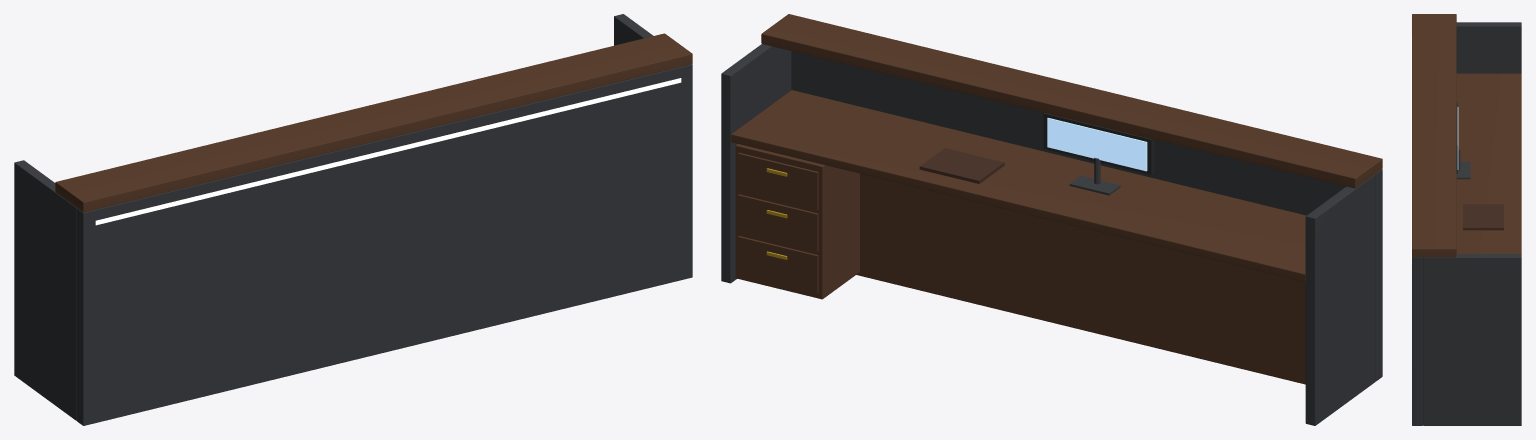
File: prop_reception_desk_exec.glb
3 views of the same model, side by side, from view 1: azimuth 30°, elevation 25°; view 2: azimuth 150°, elevation 25°; view 3: azimuth 270°, elevation 25° (orthographic). The views are drawn at different scales.
Visible parts, largest first — view 1: Desk; view 2: Desk; view 3: Desk.
Part boxes in pixels (<box>): Desk: <box>14,14,692,425</box>; Desk: <box>721,14,1382,425</box>; Desk: <box>1411,14,1521,425</box>.
Size of what is drawn, in the model's own units: 2.99 by 1.05 by 0.594.
